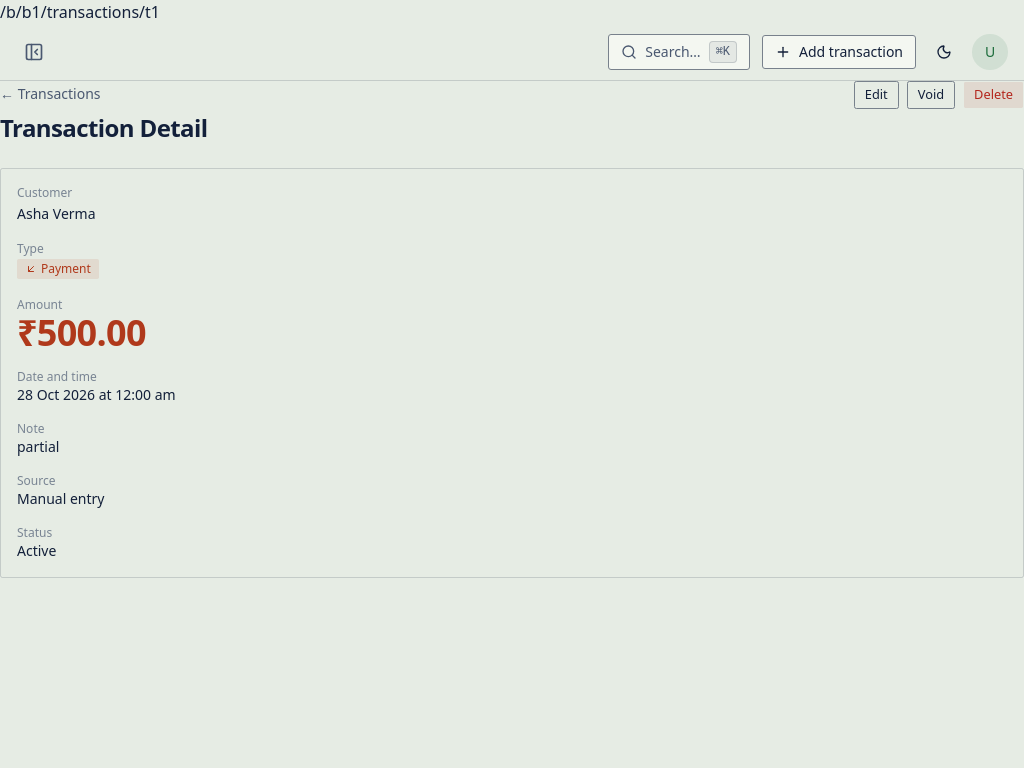
S-34 void and restore transactions › transaction detail: voids with the page's button, shows the reason, restores, and edits through the shared sheet
Expected: the heading "Transaction Detail" is shown, [0,112,207,144]
Click the button "Void" at {"x": 931, "y": 95}, box [907,81,955,109]
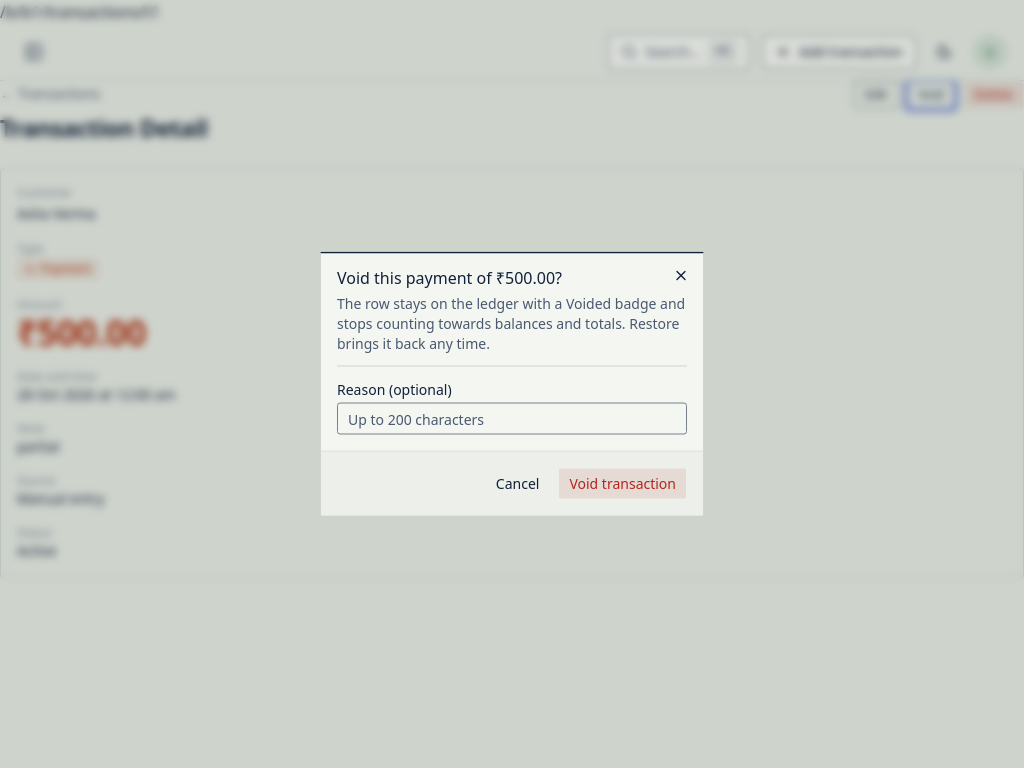
Type "Wrong amount" into the field labelled "Reason (optional)" at {"x": 512, "y": 418}, box [337,402,687,434]
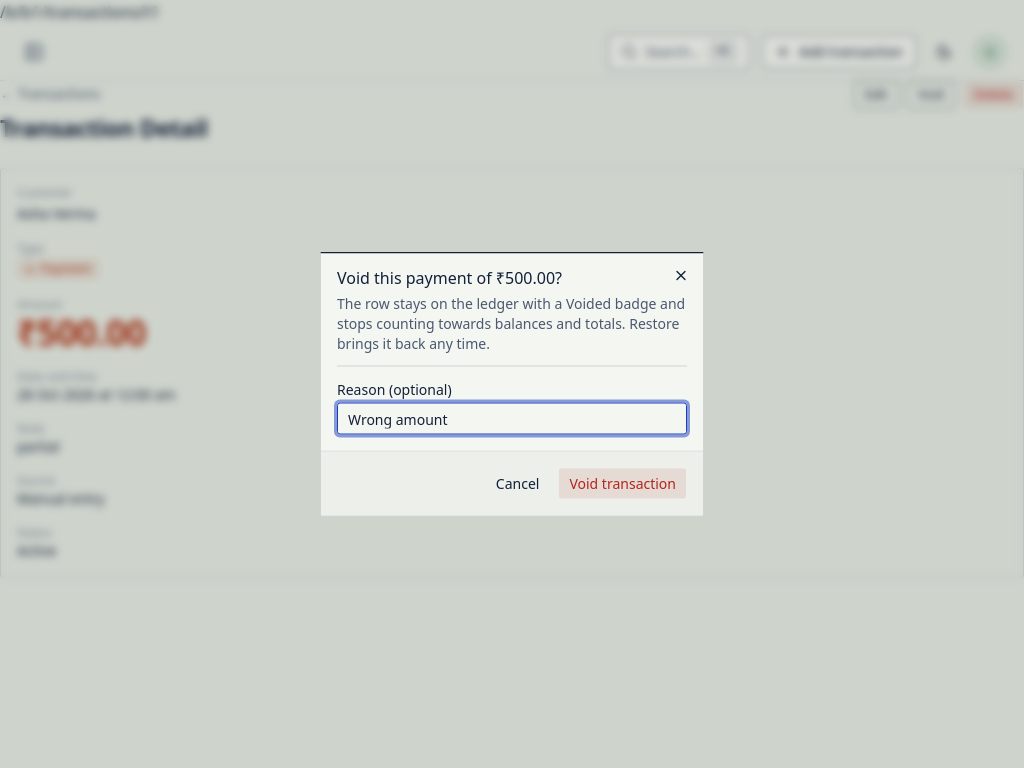
Click the button "Void transaction" at {"x": 623, "y": 484}, box [558,468,687,500]
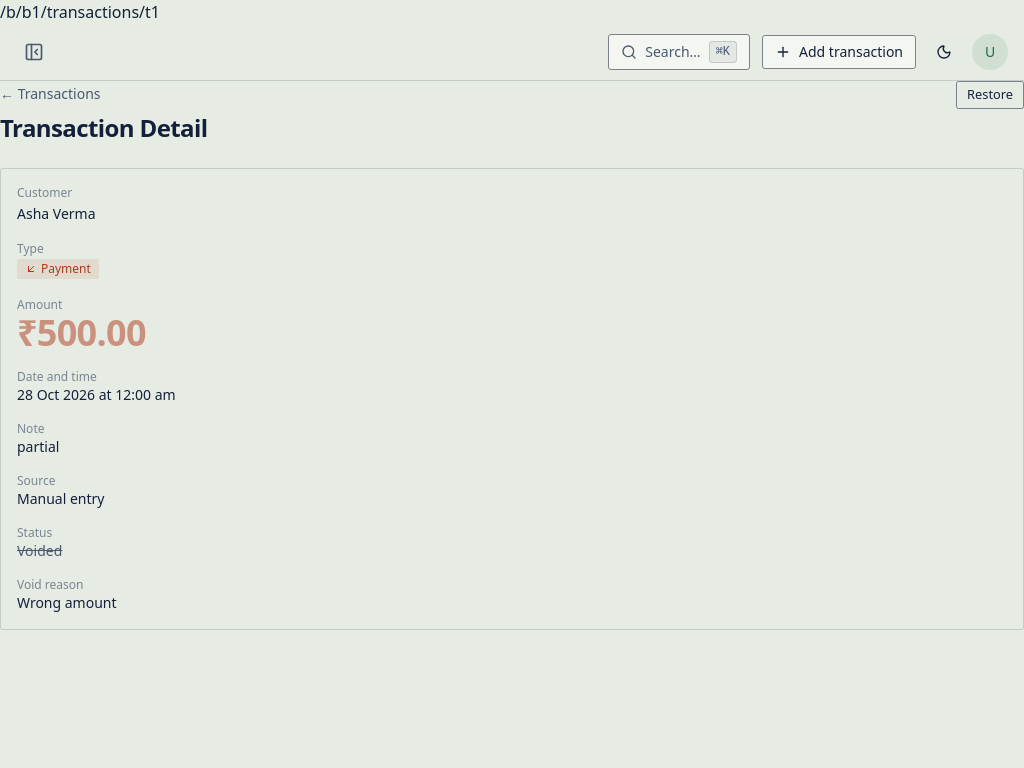
Result: the text "Void reason" is shown at [17,576,84,593]
Result: the text "Wrong amount" is shown at [17,593,116,612]
Result: the text "Voided" is shown at [17,541,62,560]
# Restore from the page too.
Click the button "Restore" at {"x": 990, "y": 95}, box [956,81,1023,109]
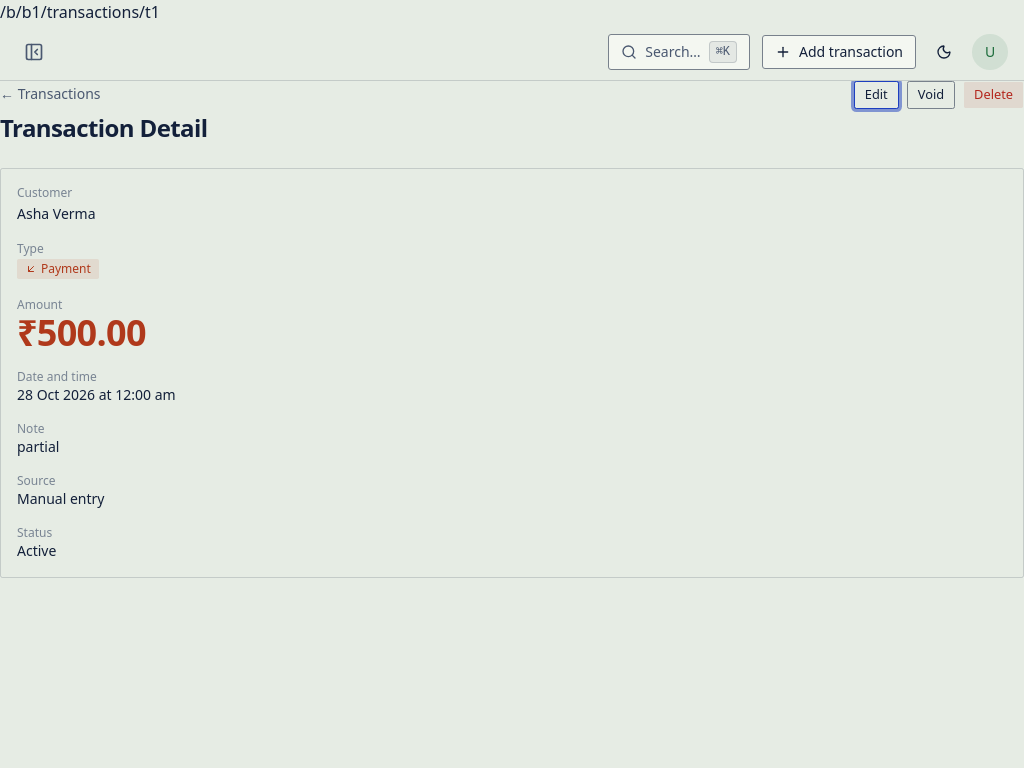
Result: the text "Active" is shown at [17,541,56,560]
Result: the text "Void reason" is gone
# S-33 handoff: Edit now opens the shared sheet, not the v1 one.
Click the button "Edit" at {"x": 876, "y": 95}, box [854,81,899,109]
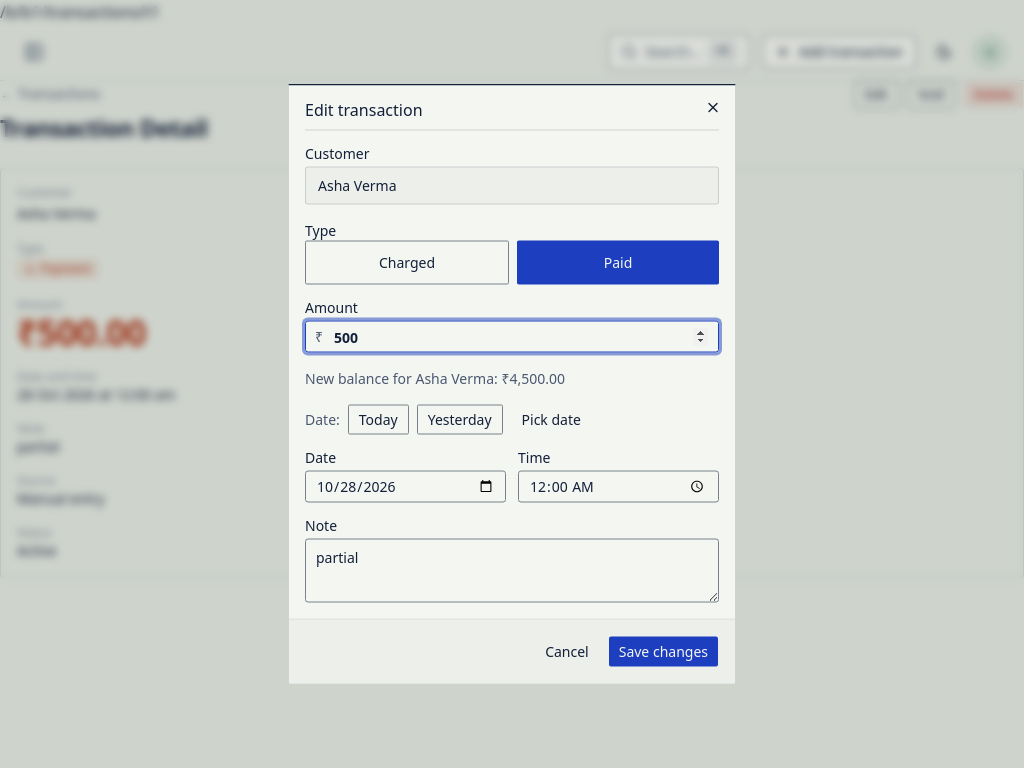
Result: the heading "Edit transaction" is shown at [305,98,422,120]
Result: the number field labelled "Amount" holds "500" at [305,320,719,352]
